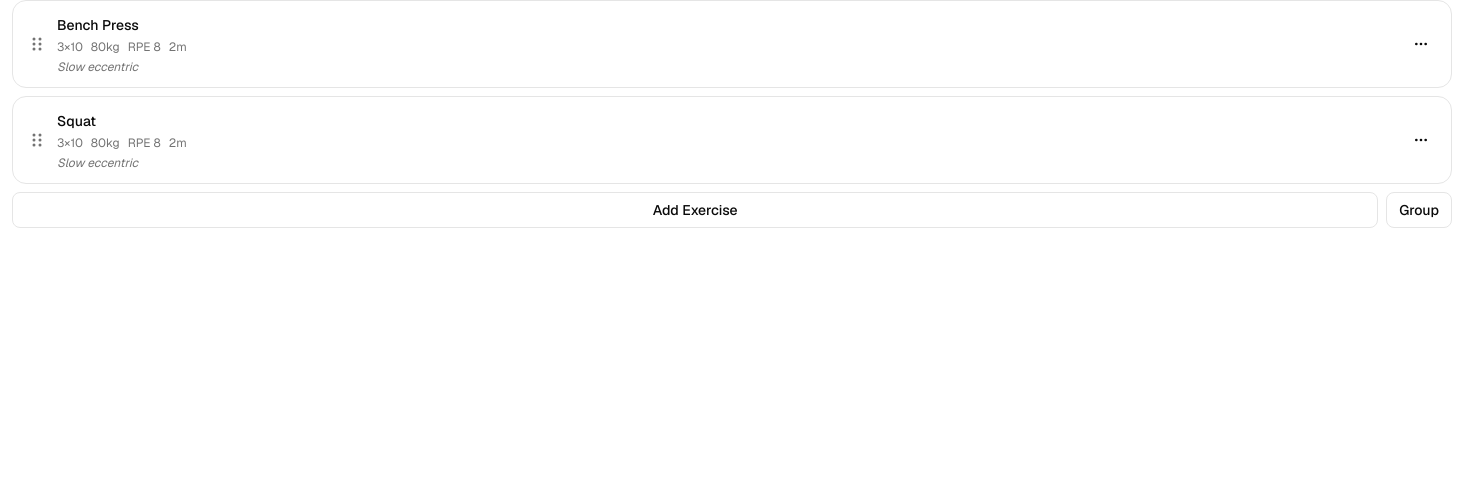
SlotList batch cascade › AC6: pending edit visual indicators › shows visual indicator on slots with pending edits
Click the button named "actions" in the row of "Bench Press".
click(1421, 44)  # box [1407,30,1435,58]
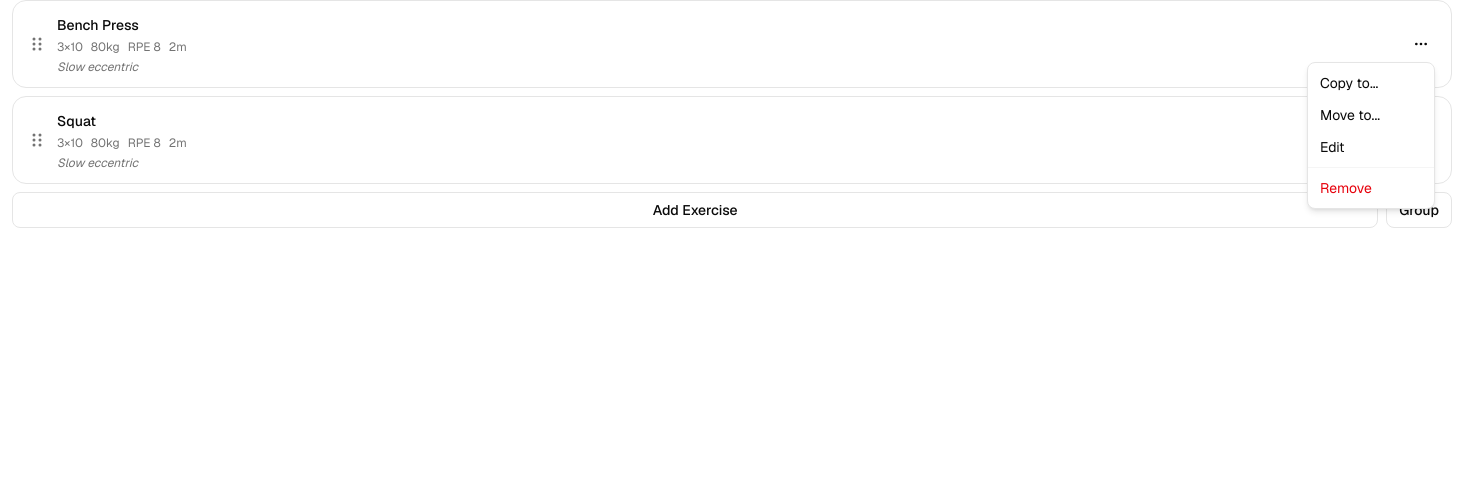
Click the menu item "Edit".
click(1332, 147)  # box [1320,138,1345,156]
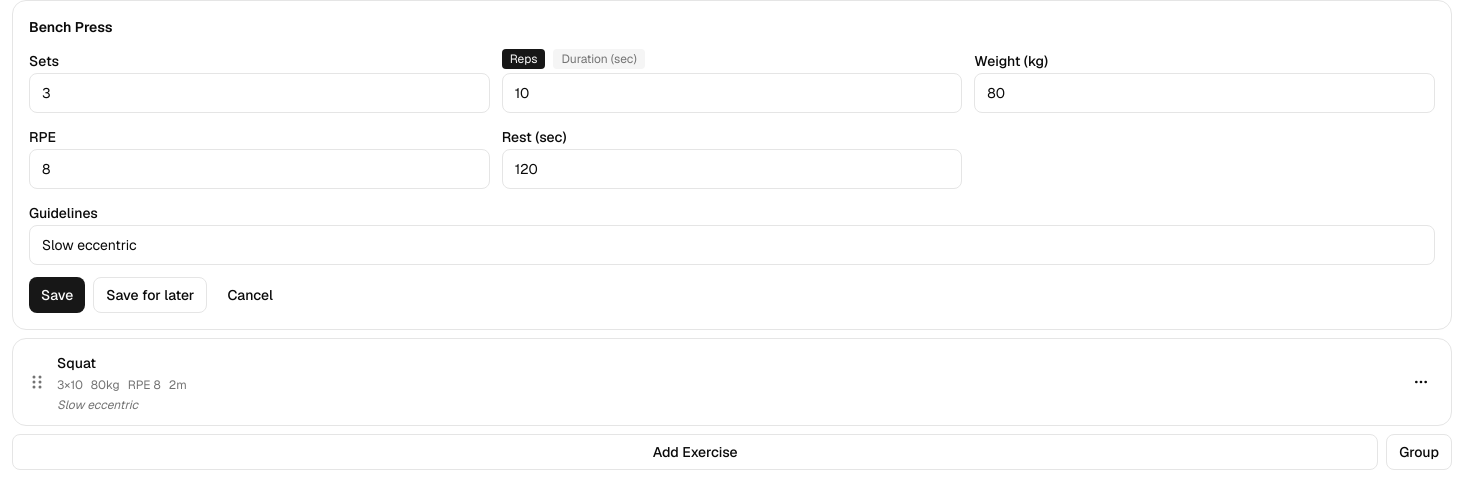
Replace the text in the field labelled "Sets" with "5" at (259, 93), box [29,73,490,113]
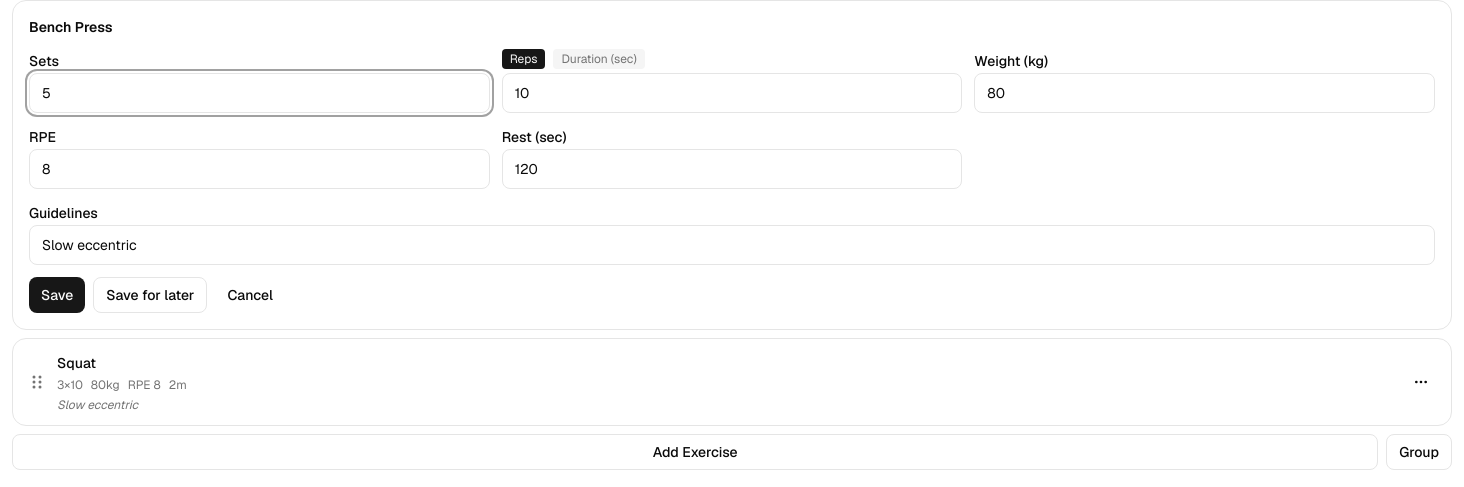
Click the button "Save for later".
click(150, 295)  # box [93,277,207,313]
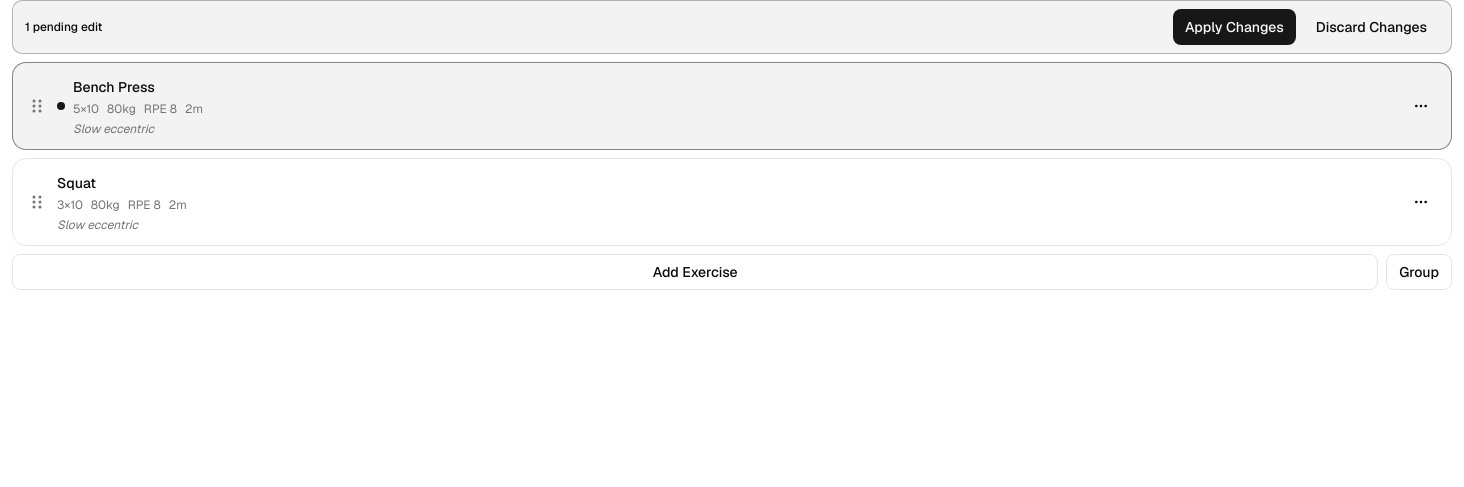
Now the element with test id "pending-edit-indicator" is shown, box [57,102,65,110]
